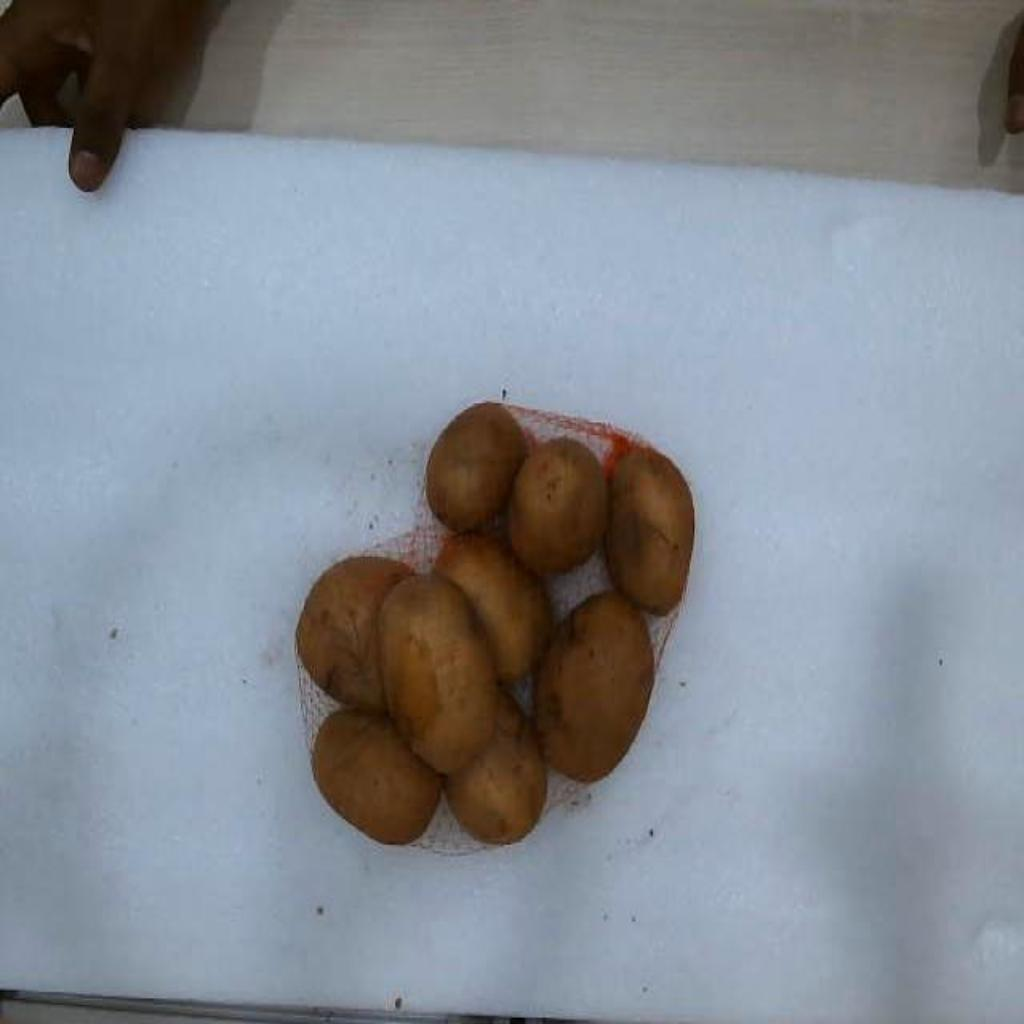potato: (378, 573, 498, 773), (536, 592, 654, 780), (296, 557, 414, 711), (312, 709, 440, 844), (434, 536, 552, 681), (446, 691, 546, 844), (606, 445, 694, 615), (508, 437, 608, 576), (426, 403, 528, 531)
